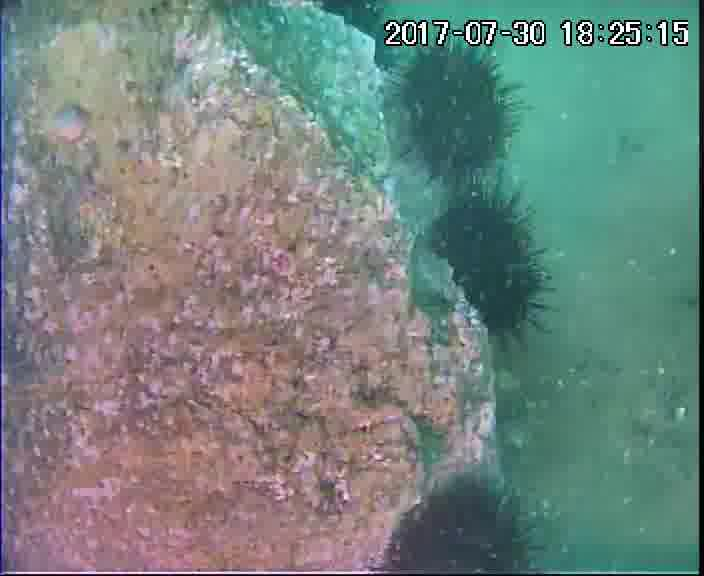echinus: (422, 197, 551, 344), (400, 46, 528, 183), (388, 469, 551, 576), (319, 2, 405, 77)
